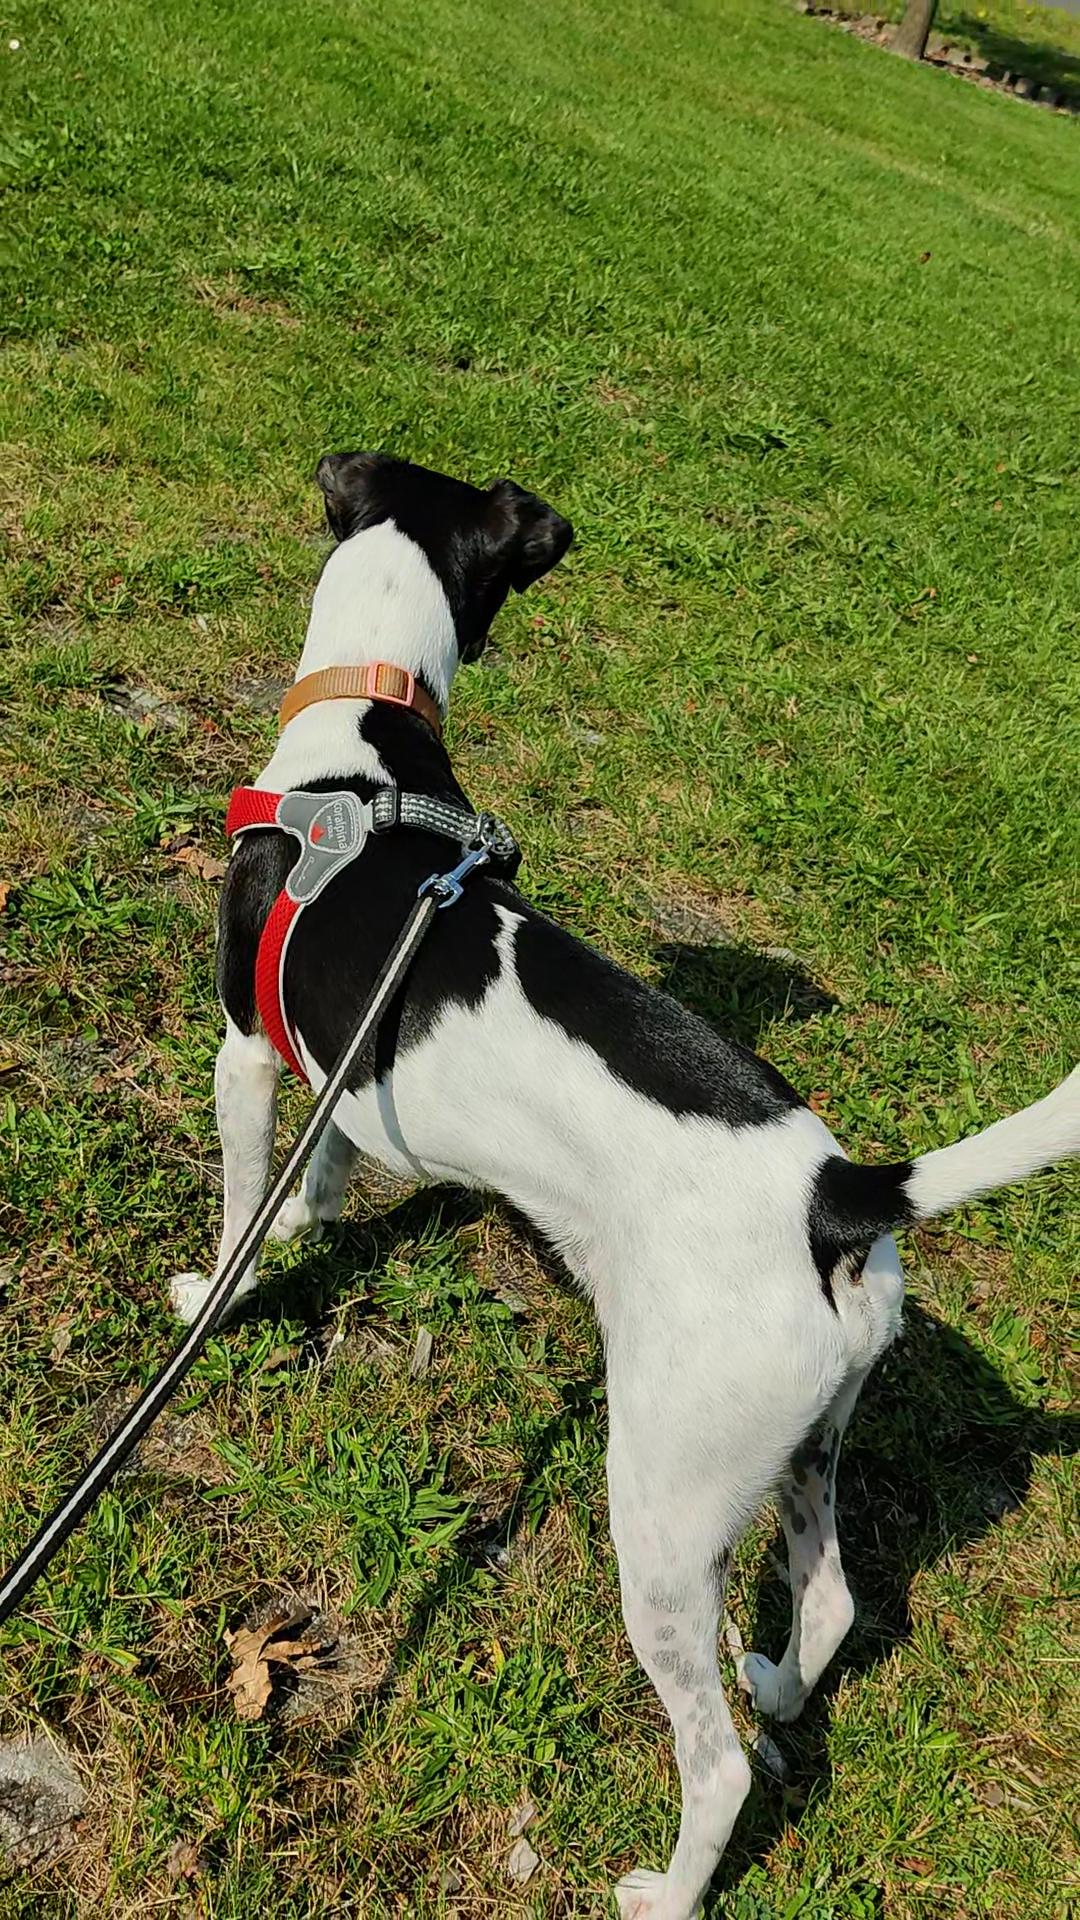Dog: (161, 357, 1079, 1919)
